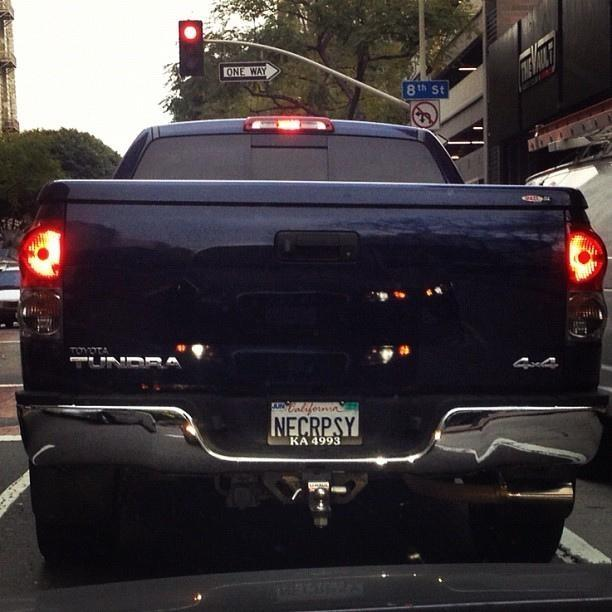car: (12, 124, 612, 569)
truck: (17, 116, 609, 561)
